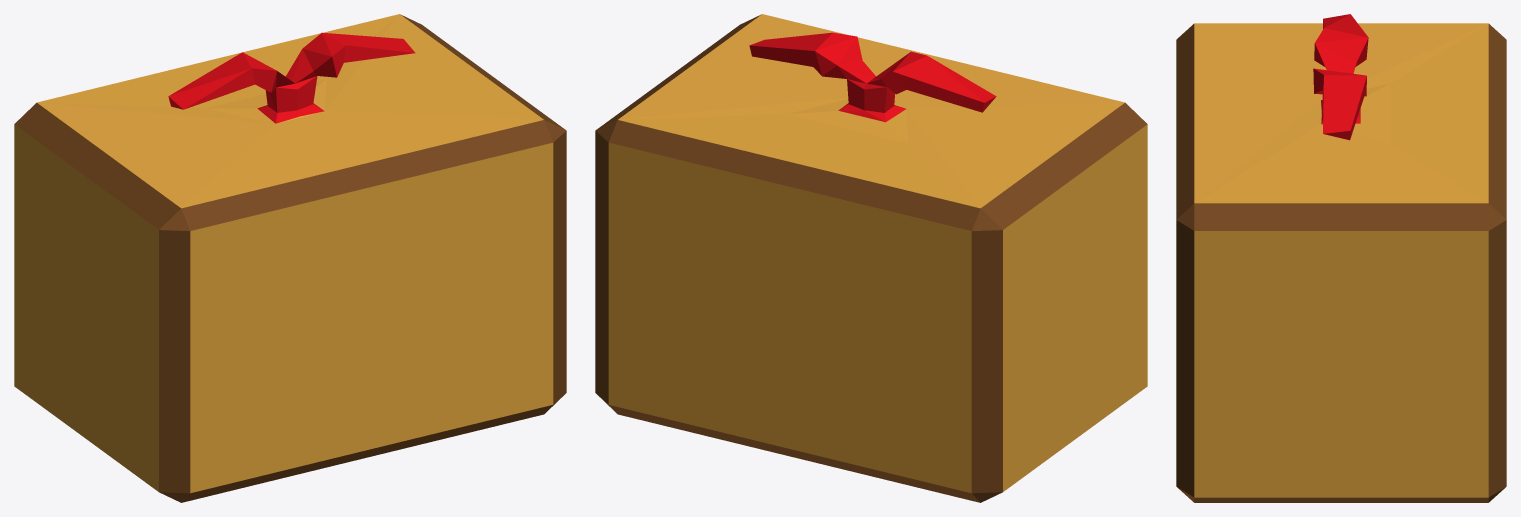
The model's file is Package.fbx.
3 renders of one model, left to right at view 1: azimuth 30°, elevation 25°; view 2: azimuth 150°, elevation 25°; view 3: azimuth 270°, elevation 25°, orthographic.
Parts seen in each view (by area): view 1: Cube; view 2: Cube; view 3: Cube.
Boxes of the visible parts, left/top/right/bottom form: Cube: left=14, top=14, right=566, bottom=502; Cube: left=595, top=14, right=1147, bottom=502; Cube: left=1176, top=14, right=1506, bottom=502.
Bounding box in the file's own units: 200 × 241 × 290.
